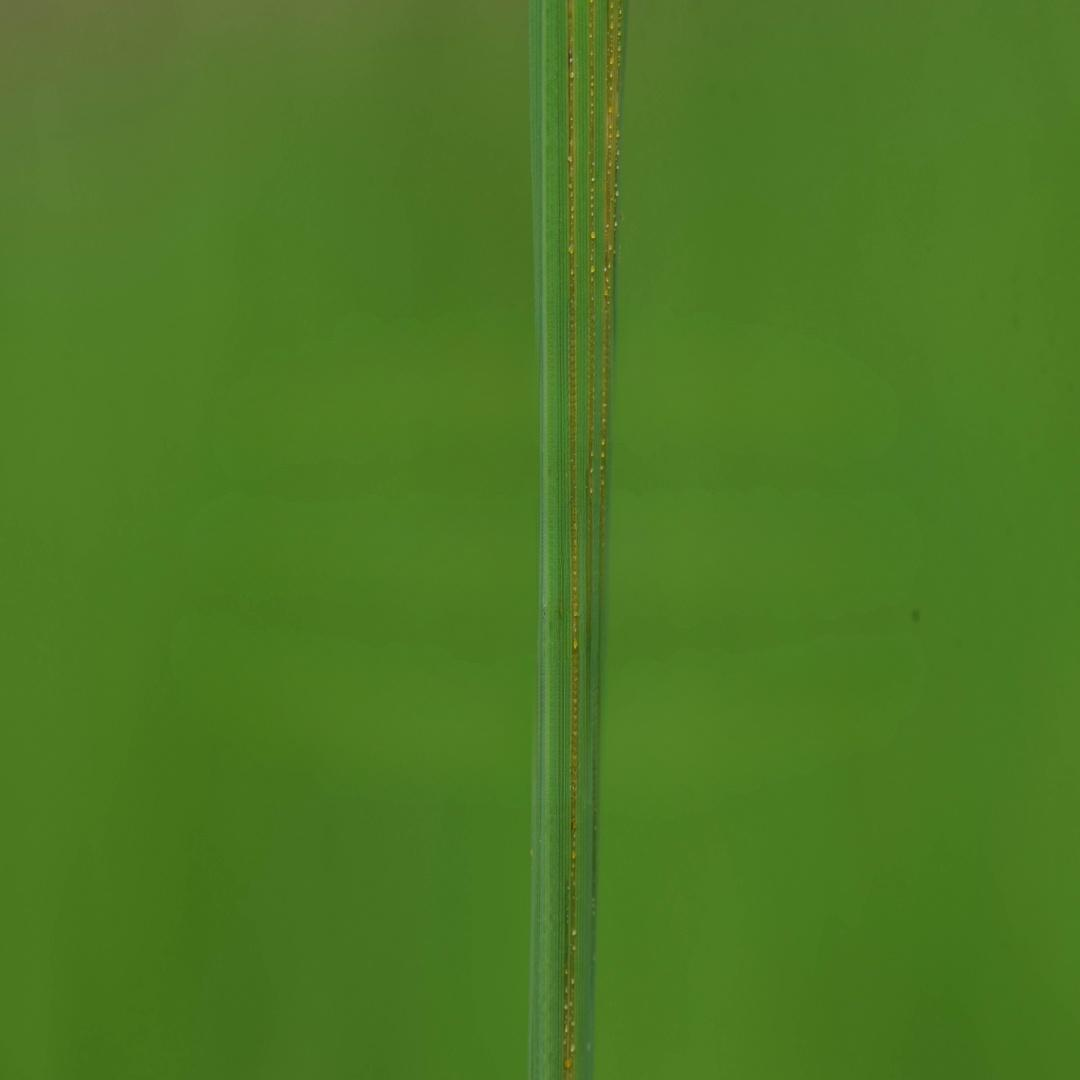BLS: (562, 0, 579, 1078), (600, 0, 622, 549), (588, 0, 595, 526)
LEAF: (528, 0, 625, 1079)
